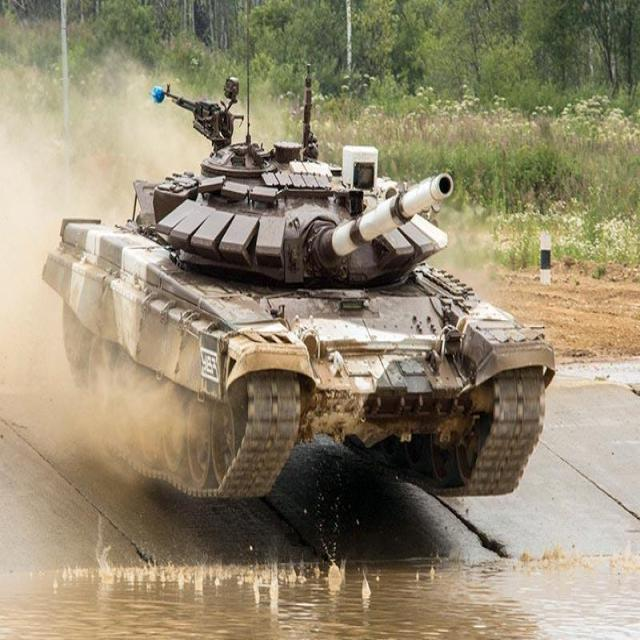Tanks: (31, 84, 628, 585)
